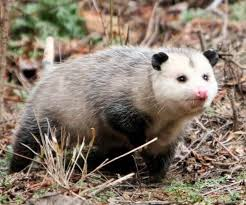opossum: (11, 45, 218, 182)
